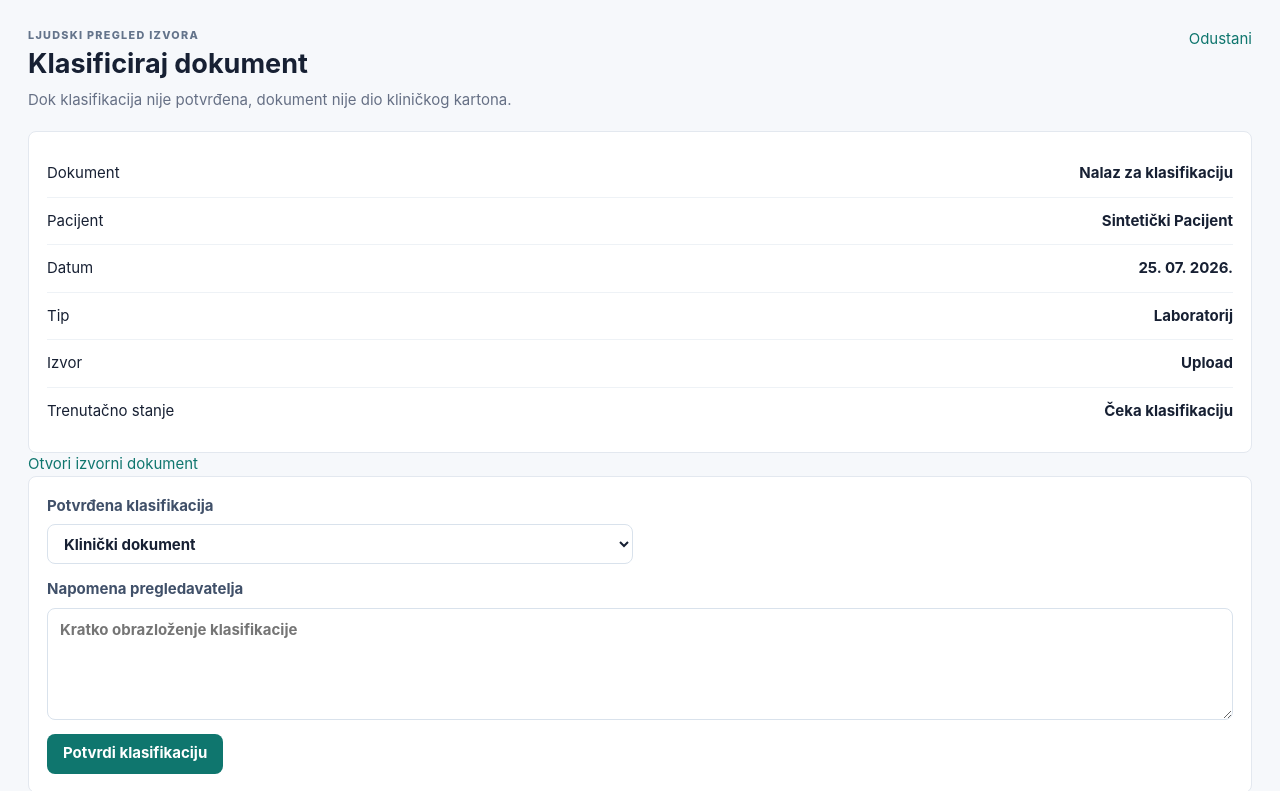
Test case: ClinicalDocumentClassificationReview › surfaces a concurrent classification conflict without showing trusted state
Check: the heading "Klasificiraj dokument" is shown, box [28, 47, 308, 80]
Click the button "Potvrdi klasifikaciju" at {"x": 135, "y": 754}, box [47, 734, 223, 774]
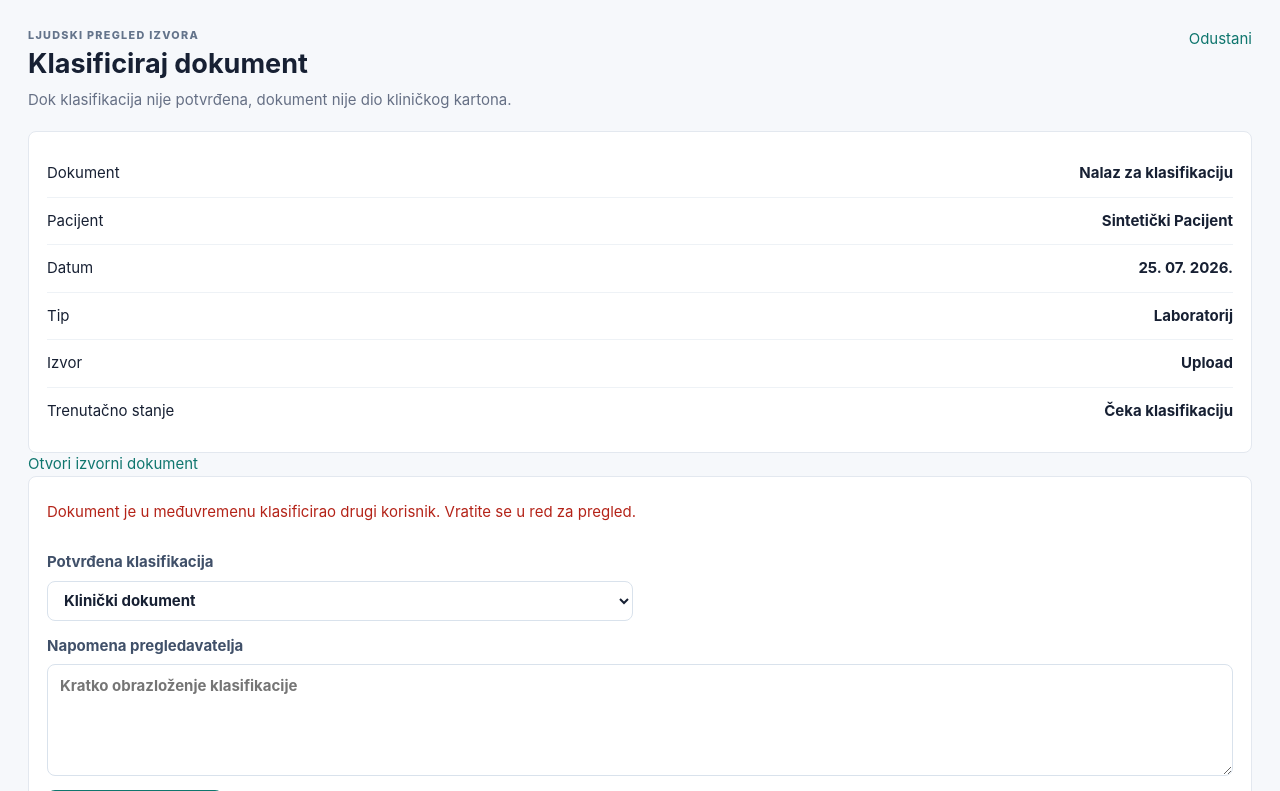
Check: the text "Čeka klasifikaciju" is shown, box [1104, 400, 1233, 422]
Check: the message shows "drugi korisnik", box [47, 502, 636, 521]
